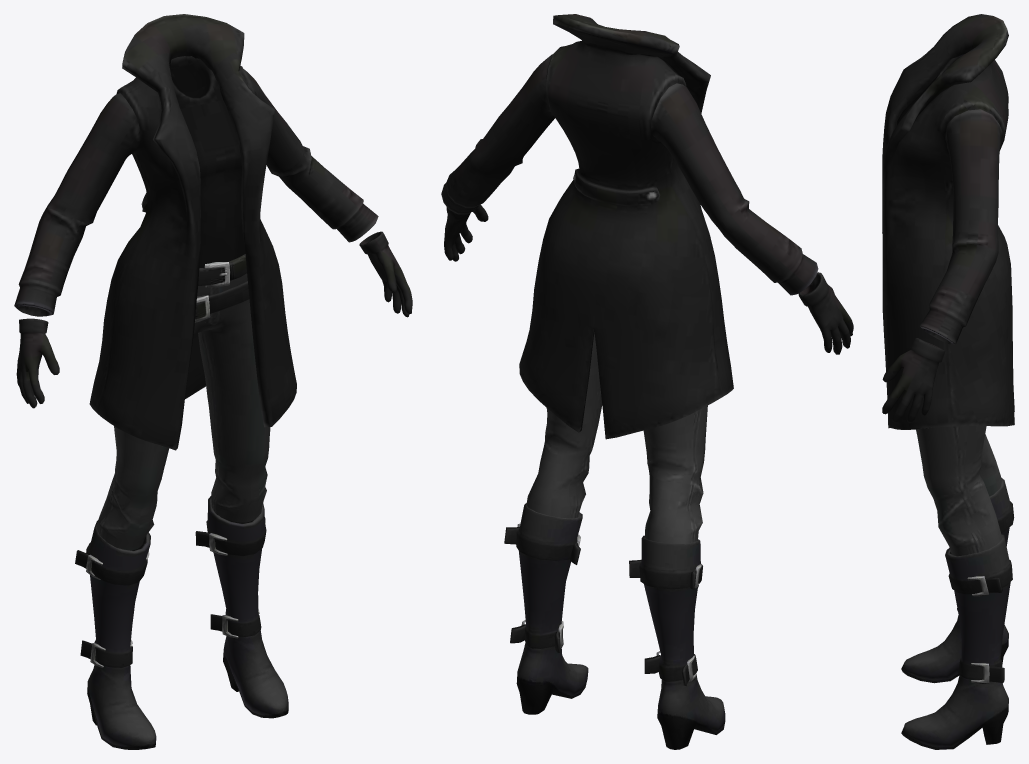
The model's file is femaleoutfit2.glb.
The picture shows the model from 3 angles, left to right: view 1: azimuth 30°, elevation 25°; view 2: azimuth 150°, elevation 25°; view 3: azimuth 270°, elevation 25°; orthographic projection. The views are drawn at different scales.
Visible parts, largest first — view 1: Wolf3D_Outfit_Top, Wolf3D_Outfit_Footwear, Wolf3D_Outfit_Bottom; view 2: Wolf3D_Outfit_Top, Wolf3D_Outfit_Footwear, Wolf3D_Outfit_Bottom; view 3: Wolf3D_Outfit_Top, Wolf3D_Outfit_Footwear, Wolf3D_Outfit_Bottom.
Boxes of the visible parts, x1,y1,x2,y2 form: Wolf3D_Outfit_Top: (14,14,412,450); Wolf3D_Outfit_Footwear: (75,496,288,749); Wolf3D_Outfit_Bottom: (96,254,270,550); Wolf3D_Outfit_Top: (441,14,853,439); Wolf3D_Outfit_Footwear: (504,503,725,749); Wolf3D_Outfit_Bottom: (526,332,707,543); Wolf3D_Outfit_Top: (882,14,1014,429); Wolf3D_Outfit_Footwear: (901,478,1014,749); Wolf3D_Outfit_Bottom: (916,425,1001,556).
Size of the model in its own units: 0.9291 by 1.58 by 0.2792.
3 materials, 3 textured.
